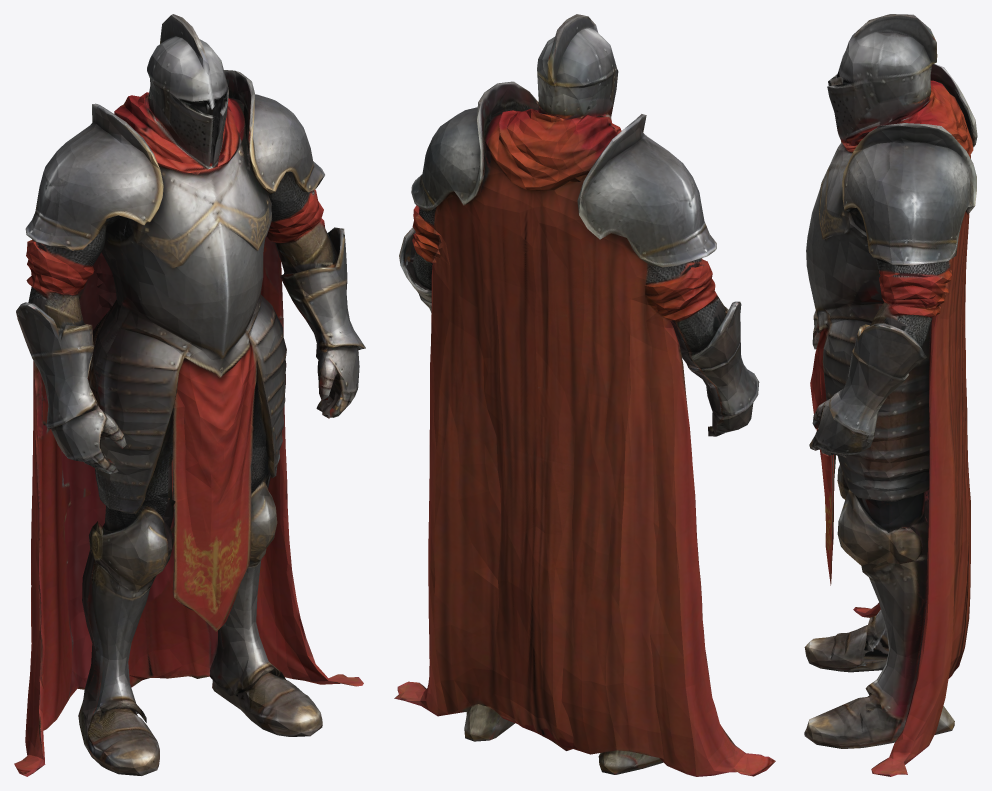
File: big_medieval_knight_f_0524222905_texture.fbx
3 views of the same model, side by side, from view 1: azimuth 30°, elevation 25°; view 2: azimuth 150°, elevation 25°; view 3: azimuth 270°, elevation 25° (orthographic). The views are drawn at different scales.
Visible parts, largest first — view 1: temp; view 2: temp; view 3: temp.
Part boxes in pixels (x1,y1,x2,y2): temp: (14,14,365,776); temp: (394,14,775,776); temp: (804,14,977,776).
Bounding box in the file's own units: 105 × 200 × 45.76.
1 material, 1 textured.
